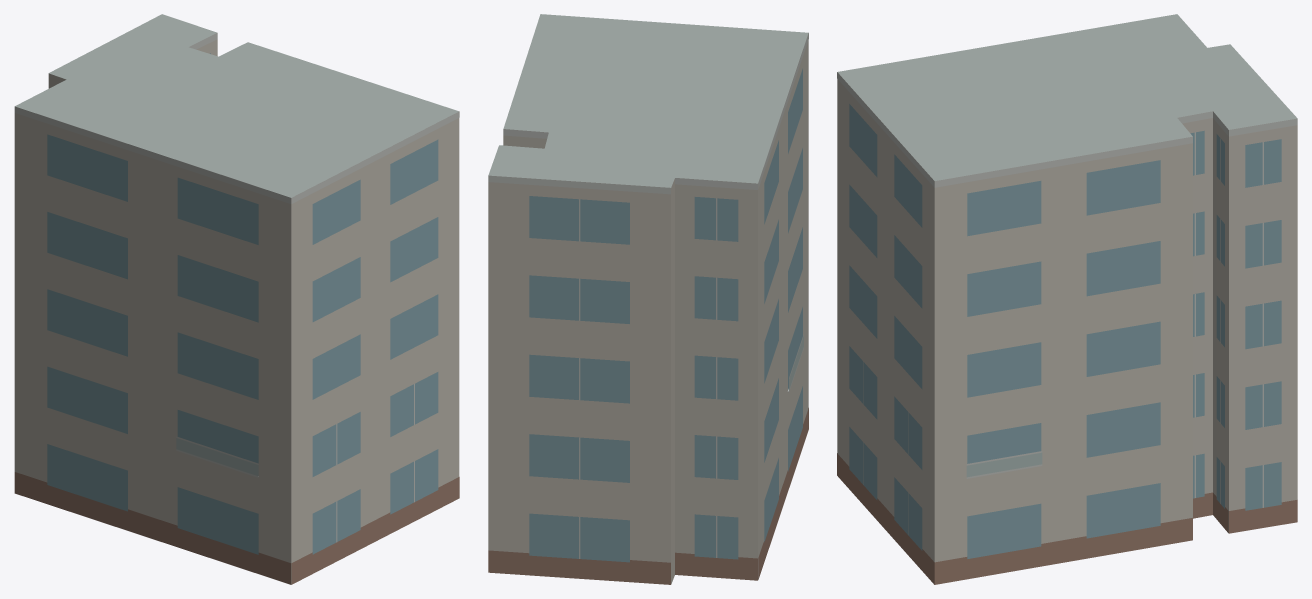
File: survey-upis-32845876.glb
3 views of the same model, side by side, from view 1: azimuth 30°, elevation 25°; view 2: azimuth 150°, elevation 25°; view 3: azimuth 270°, elevation 25° (orthographic). The views are drawn at different scales.
Visible parts, largest first — view 1: survey-upis-32845876.tmp; view 2: survey-upis-32845876.tmp; view 3: survey-upis-32845876.tmp.
Boxes of the visible parts, box(x1,y1,x2,y2) form: survey-upis-32845876.tmp: box(14, 14, 459, 584); survey-upis-32845876.tmp: box(488, 14, 808, 584); survey-upis-32845876.tmp: box(837, 14, 1297, 584).
Bounding box in the file's own units: 13.18 × 14.83 × 15.34.
